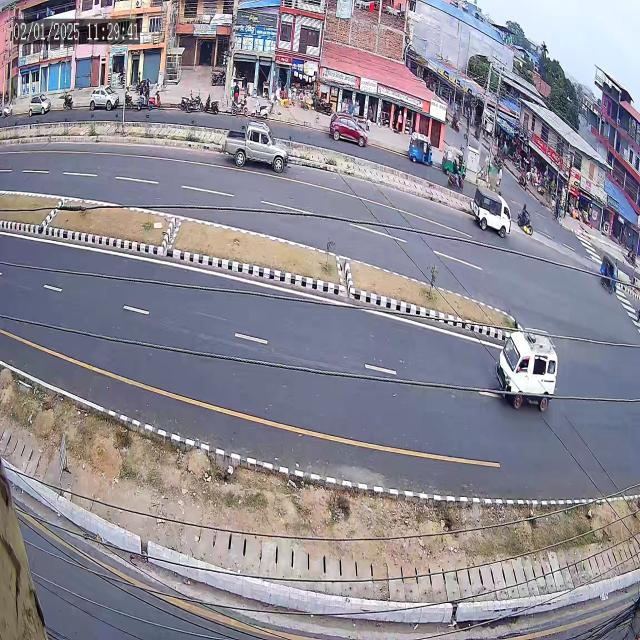auto: (594, 242, 622, 308), (403, 126, 435, 178)
van: (482, 310, 562, 425), (468, 172, 516, 253)
